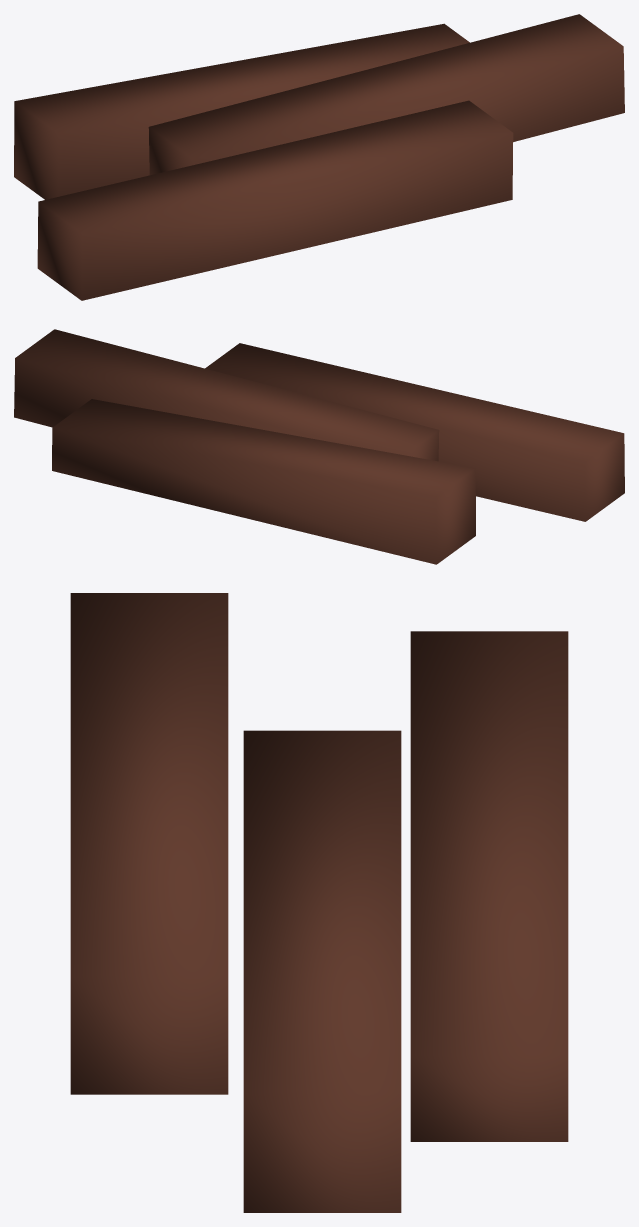
The model's file is mld_groundPlanks.fbx.
3 views of the same model, one above another, from view 1: azimuth 30°, elevation 25°; view 2: azimuth 150°, elevation 25°; view 3: azimuth 270°, elevation 25° (orthographic). The views are drawn at different scales.
Parts seen in each view (by area): view 1: mld_groundPlanks; view 2: mld_groundPlanks; view 3: mld_groundPlanks.
Part boxes in pixels (x1=…): mld_groundPlanks: x1=14, y1=14, x2=624, y2=300; mld_groundPlanks: x1=14, y1=329, x2=624, y2=564; mld_groundPlanks: x1=70, y1=593, x2=568, y2=1212.
Bounding box in the file's own units: 237 × 32.24 × 96.77.
